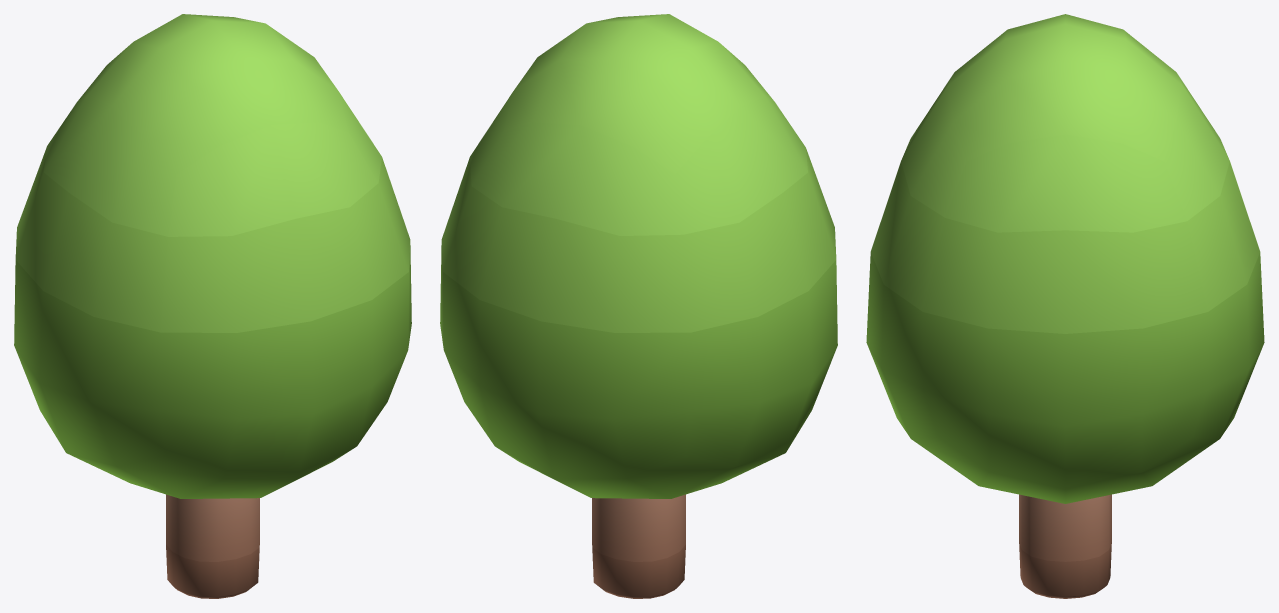
The model's file is tree_7.fbx.
The picture shows the model from 3 angles, left to right: view 1: azimuth 30°, elevation 25°; view 2: azimuth 150°, elevation 25°; view 3: azimuth 270°, elevation 25°; orthographic projection.
Parts seen in each view (by area): view 1: tree_7; view 2: tree_7; view 3: tree_7.
Boxes of the visible parts, bbox=[...] form: tree_7: bbox=[14, 14, 411, 598]; tree_7: bbox=[440, 14, 837, 598]; tree_7: bbox=[866, 14, 1264, 598].
Bounding box in the file's own units: 168 × 262 × 168.
